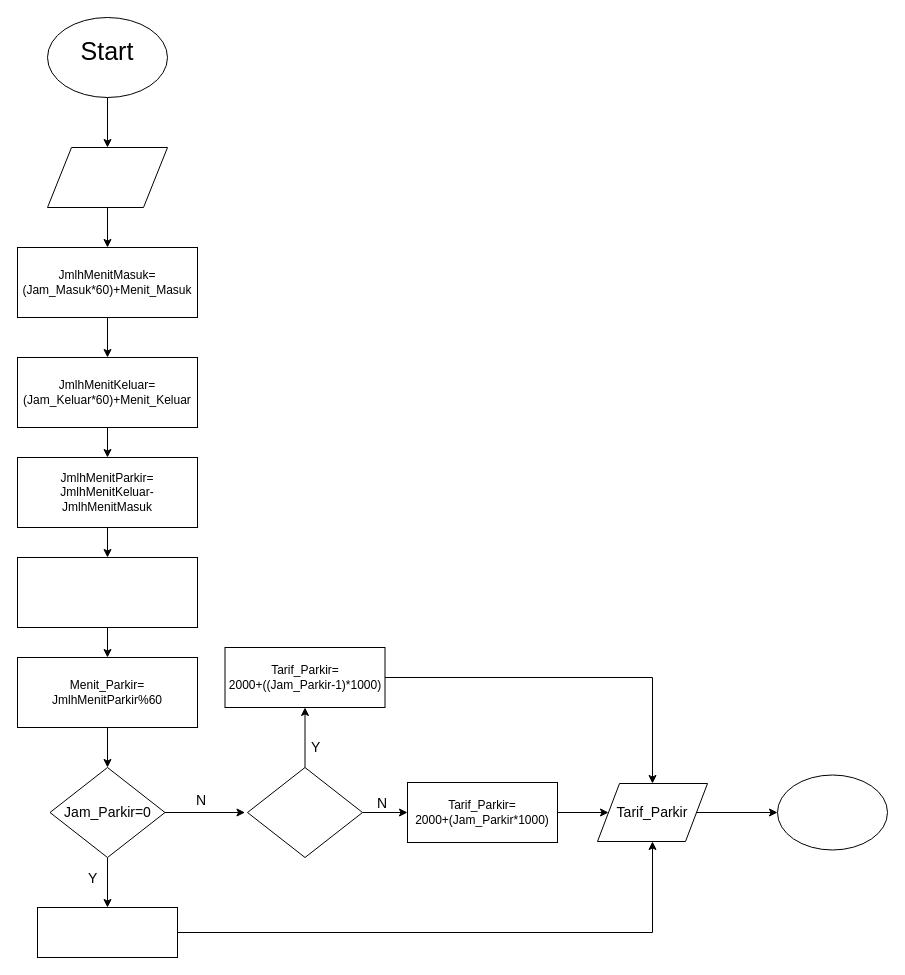
The diagram is 905 pixels wide and 975 high, and some of its shapes have lost their labels. Each missing label, with the centre of its shape:
"End" belongs at (832,812).
"Jam Masuk Menit Masuk Jam Keluar Menit Keluar" belongs at (107,177).
"Jam_Parkir= JmlhMenitParkir/60" belongs at (107,592).
"Menit_Parkir=0" belongs at (304,812).
"Tarif_Parkir= 2000" belongs at (107,932).
